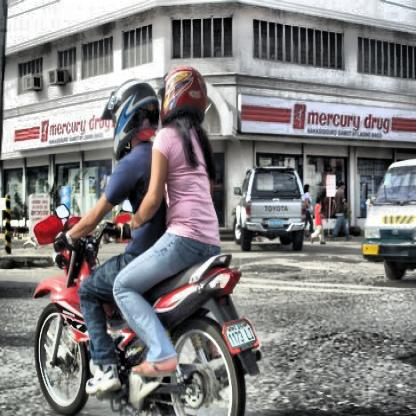wear: (105, 79, 157, 151), (160, 63, 202, 123)
